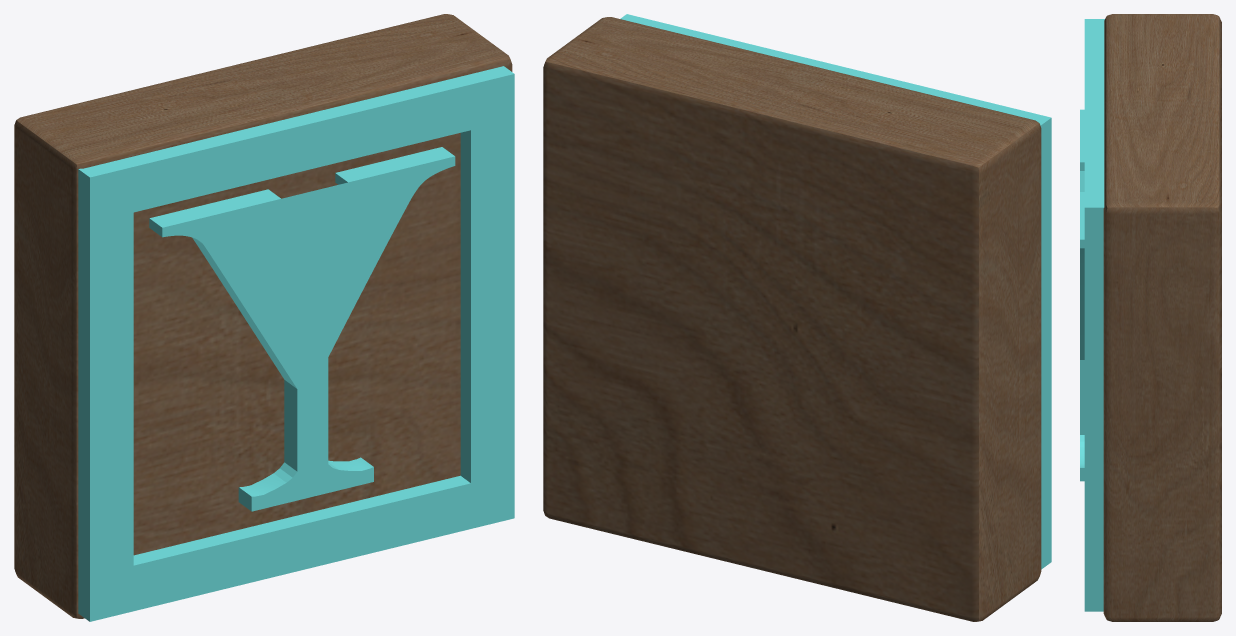
Rendered from Block Y v2.fbx.
3 views of the same model, side by side, from view 1: azimuth 30°, elevation 25°; view 2: azimuth 150°, elevation 25°; view 3: azimuth 270°, elevation 25° (orthographic). The views are drawn at different scales.
Visible parts, largest first — view 1: polySurface68; view 2: polySurface68; view 3: polySurface68.
Part boxes in pixels (bbox=[...]): polySurface68: bbox=[14, 14, 514, 621]; polySurface68: bbox=[543, 14, 1051, 621]; polySurface68: bbox=[1080, 14, 1221, 621].
Bounding box in the file's own units: 2.57 × 2.57 × 0.7877.
